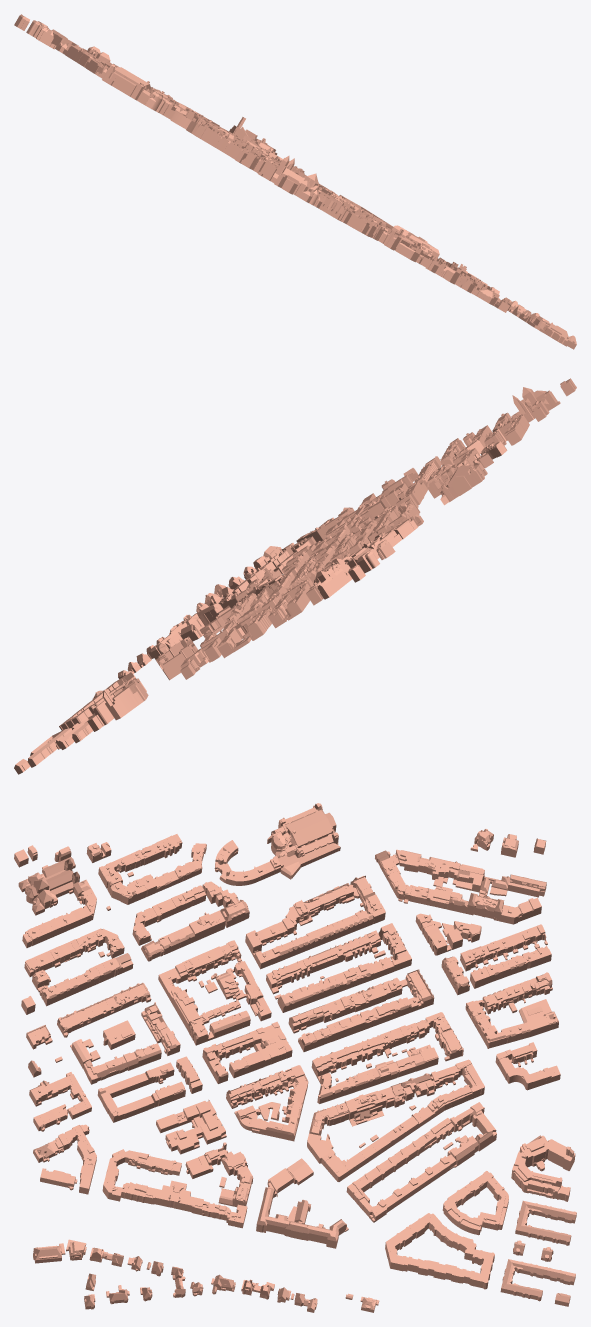
3 views of the same model, one above another, from view 1: azimuth 30°, elevation 25°; view 2: azimuth 150°, elevation 25°; view 3: azimuth 270°, elevation 25° (orthographic). The views are drawn at different scales.
Size of the model in its own units: 1.73e+07 by 1.35e+07 by 2.1e+07.
